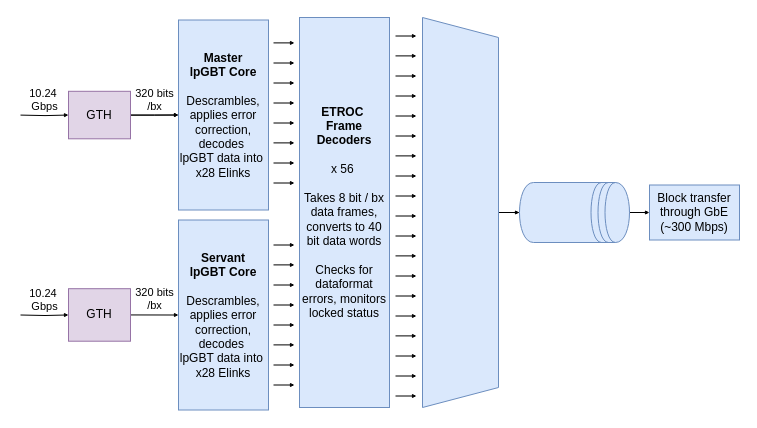
Image size: 757x428. Some labels were removed from this diagram. Here are the shapes that lost their labels. From the top down, the centre of each, then its label:
pixel 460 212: ETROC Data Multiplexer 40 bit 56:1 Multiplexer
pixel 574 212: 32kword FIFO
